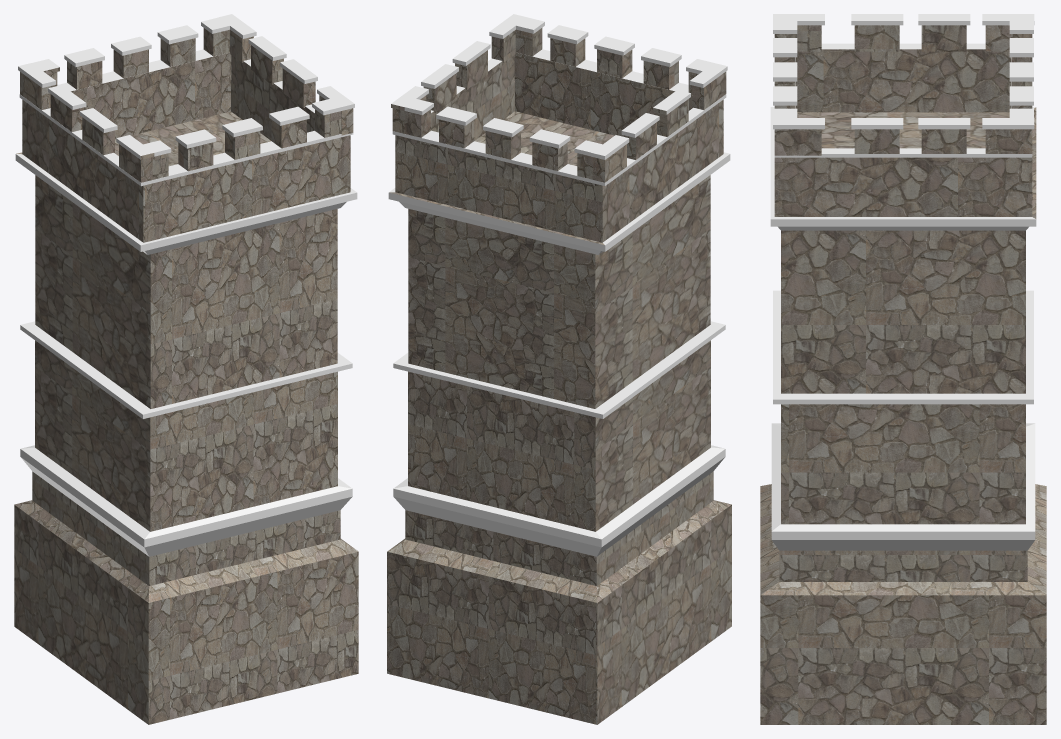
Rendered from towers .glb.
3 views of the same model, side by side, from view 1: azimuth 30°, elevation 25°; view 2: azimuth 150°, elevation 25°; view 3: azimuth 270°, elevation 25° (orthographic). The views are drawn at different scales.
Parts seen in each view (by area): view 1: Cube; view 2: Cube; view 3: Cube.
Part boxes in pixels (box(x1,y1,x2,y2)): Cube: box(14, 14, 358, 724); Cube: box(387, 14, 731, 724); Cube: box(760, 14, 1046, 724).
Size of the model in its own units: 4 by 9.97 by 4.3.
Materials: 2 (1 with a texture image).
